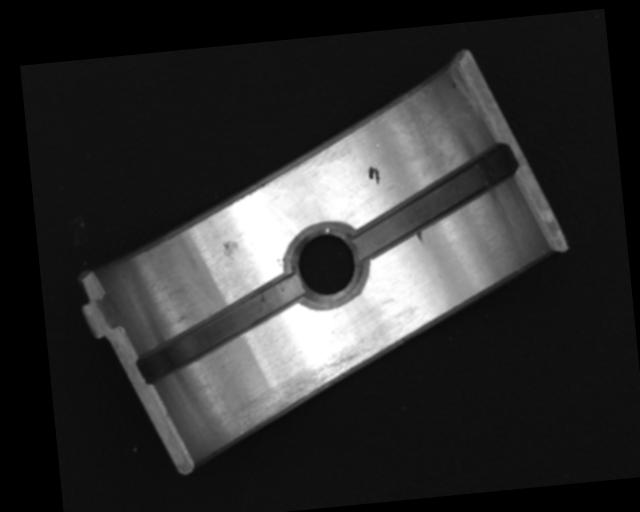blot: (366, 164, 381, 188)
bruise: (222, 238, 240, 260), (414, 230, 424, 244)
gap: (346, 145, 520, 259), (133, 278, 309, 384)
hole: (284, 220, 368, 311)
scratch: (213, 339, 392, 441)
